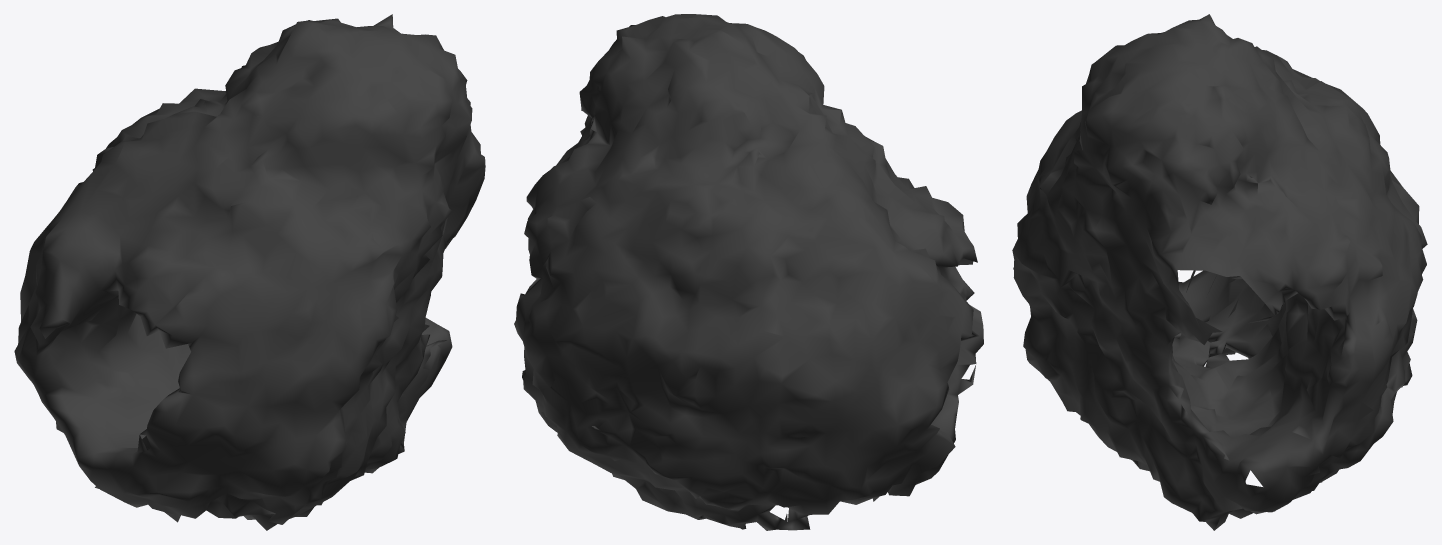
Rendered from cavern-1.glb.
3 views of the same model, side by side, from view 1: azimuth 30°, elevation 25°; view 2: azimuth 150°, elevation 25°; view 3: azimuth 270°, elevation 25° (orthographic). The views are drawn at different scales.
Visible parts, largest first — view 1: geometry_0; view 2: geometry_0; view 3: geometry_0.
Boxes of the visible parts, x1,y1,x2,y2 form: geometry_0: (14, 14, 485, 530); geometry_0: (514, 14, 983, 530); geometry_0: (1012, 14, 1427, 530).
Size of the model in its own units: 0.9225 by 1 by 0.7644.
Materials: 1 (1 with a texture image).
